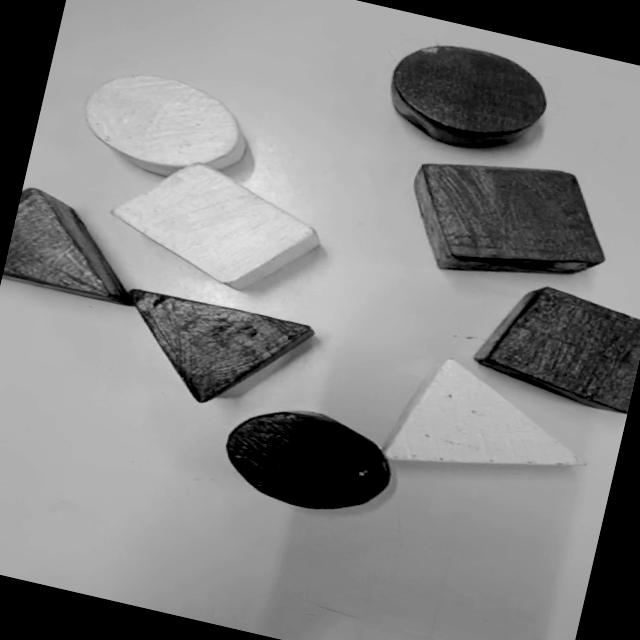bcircle: (225, 412, 390, 509)
btriangle: (130, 289, 313, 402)
rcircle: (390, 46, 544, 147)
rcube: (475, 287, 640, 414), (414, 164, 602, 275)
rtriangle: (1, 188, 130, 305)
ycube: (112, 164, 318, 290)
ytriangle: (382, 359, 584, 467)
